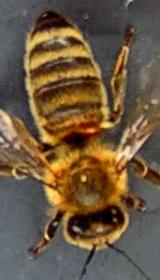varroa_mite: (59, 108, 112, 140)
